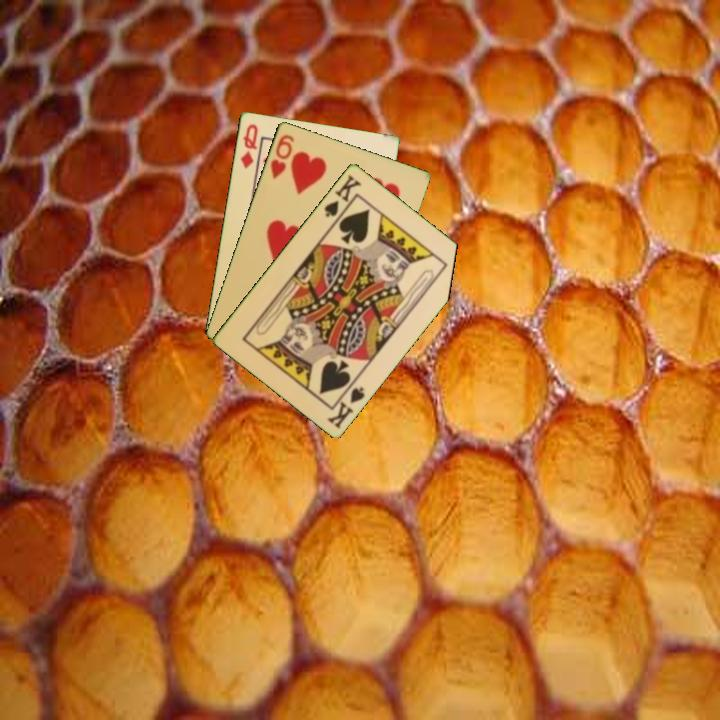6h: (266, 131, 297, 181)
Ks: (323, 376, 368, 431), (320, 171, 364, 225)
Qd: (237, 120, 261, 171)
